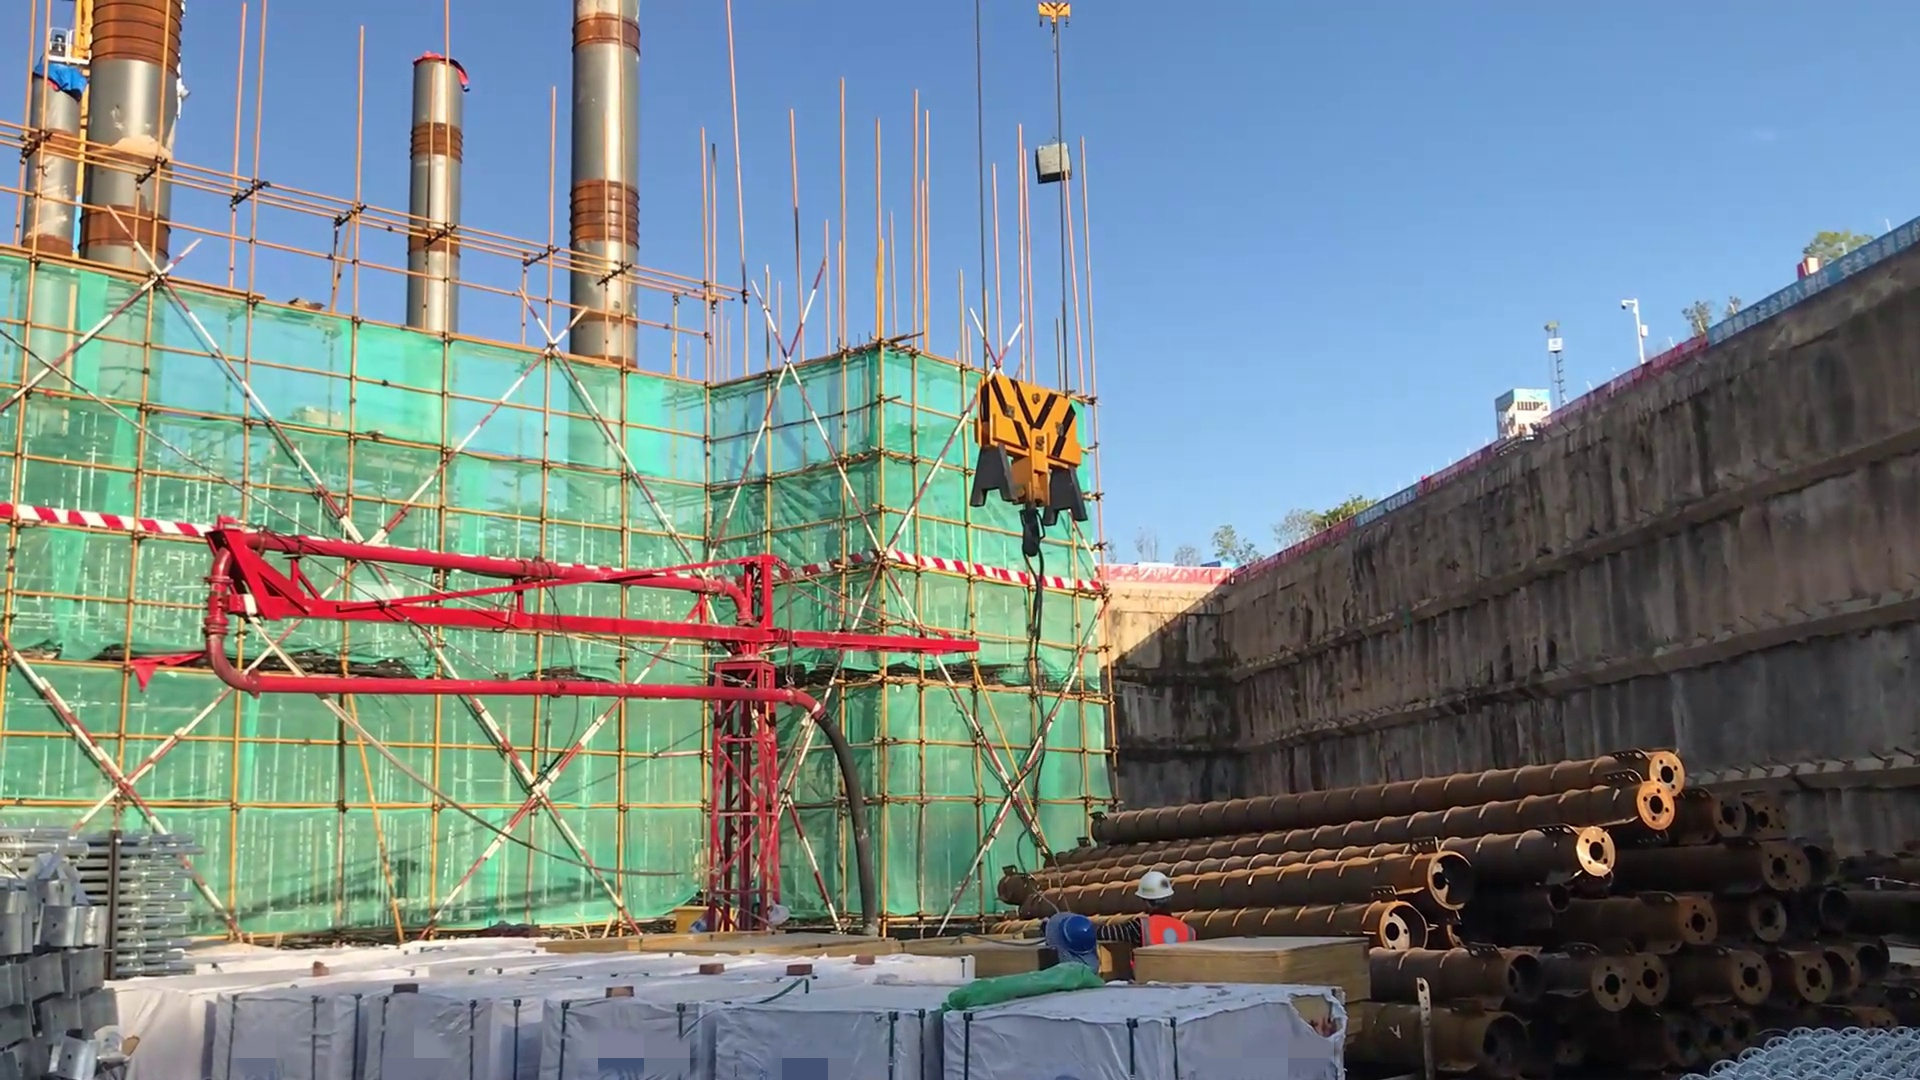board: (1125, 933, 1370, 1002)
ebox: (673, 901, 741, 934)
helmet: (1047, 911, 1103, 964), (1124, 864, 1178, 916)
hook: (959, 362, 1118, 563), (1025, 2, 1097, 52)
person: (1077, 865, 1201, 990)
scaffold: (20, 820, 227, 976)
slogan: (1694, 221, 1920, 355), (1352, 476, 1427, 534)
vest: (1118, 901, 1200, 976)
wood: (539, 935, 900, 959)
